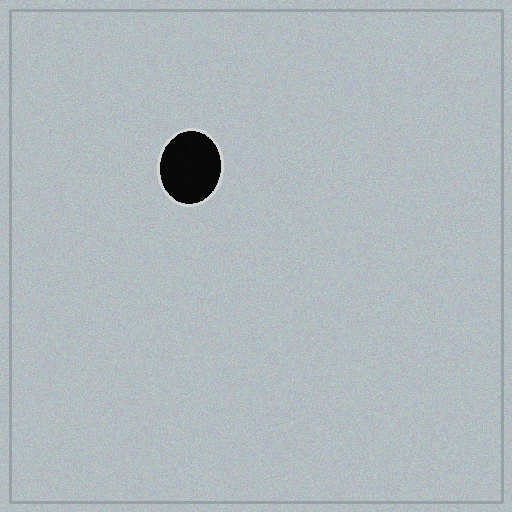hole: (150, 127, 230, 207)
